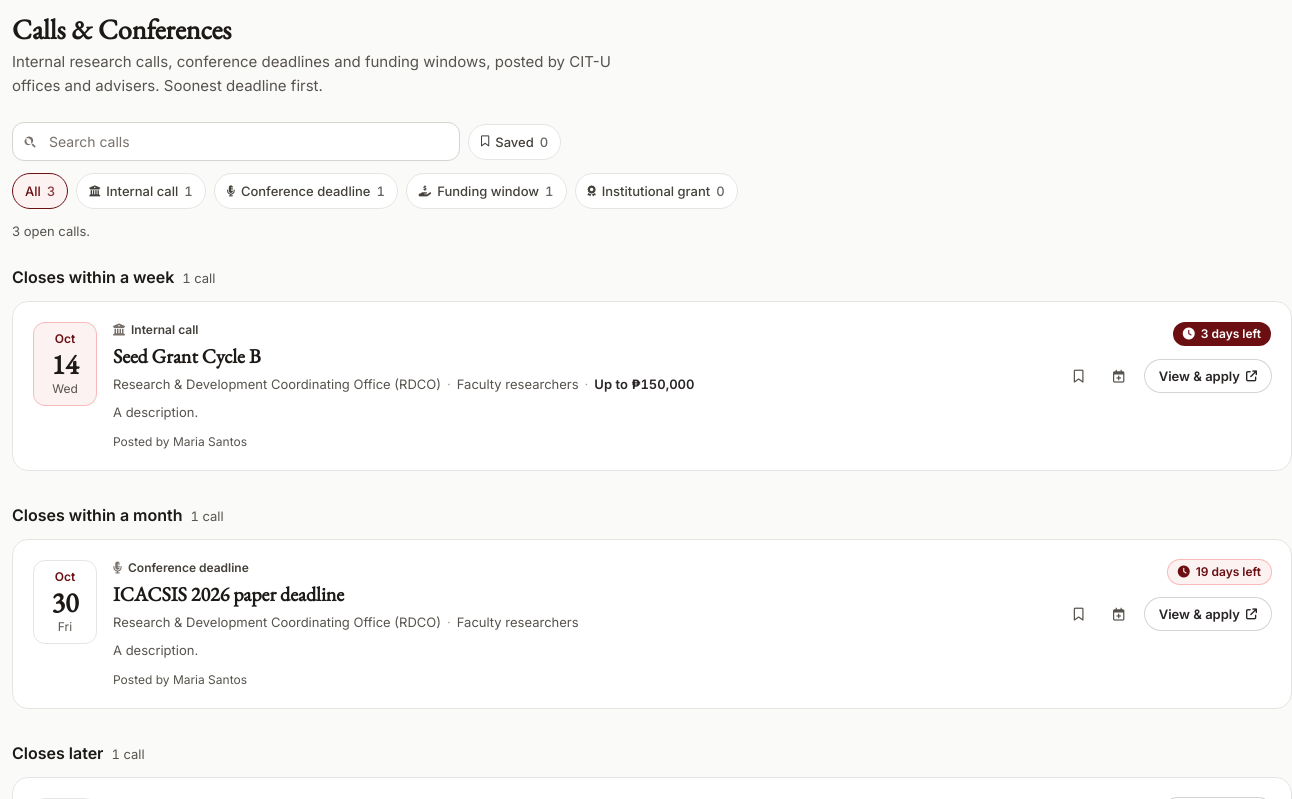
filters › counts each type and narrows the board to it
The image size is (1292, 799).
expect the heading "Calls & Conferences" is shown: met, box [12, 11, 231, 47]
Click the button "Conference deadline 1" at x=306, y=191, box [214, 173, 398, 209]
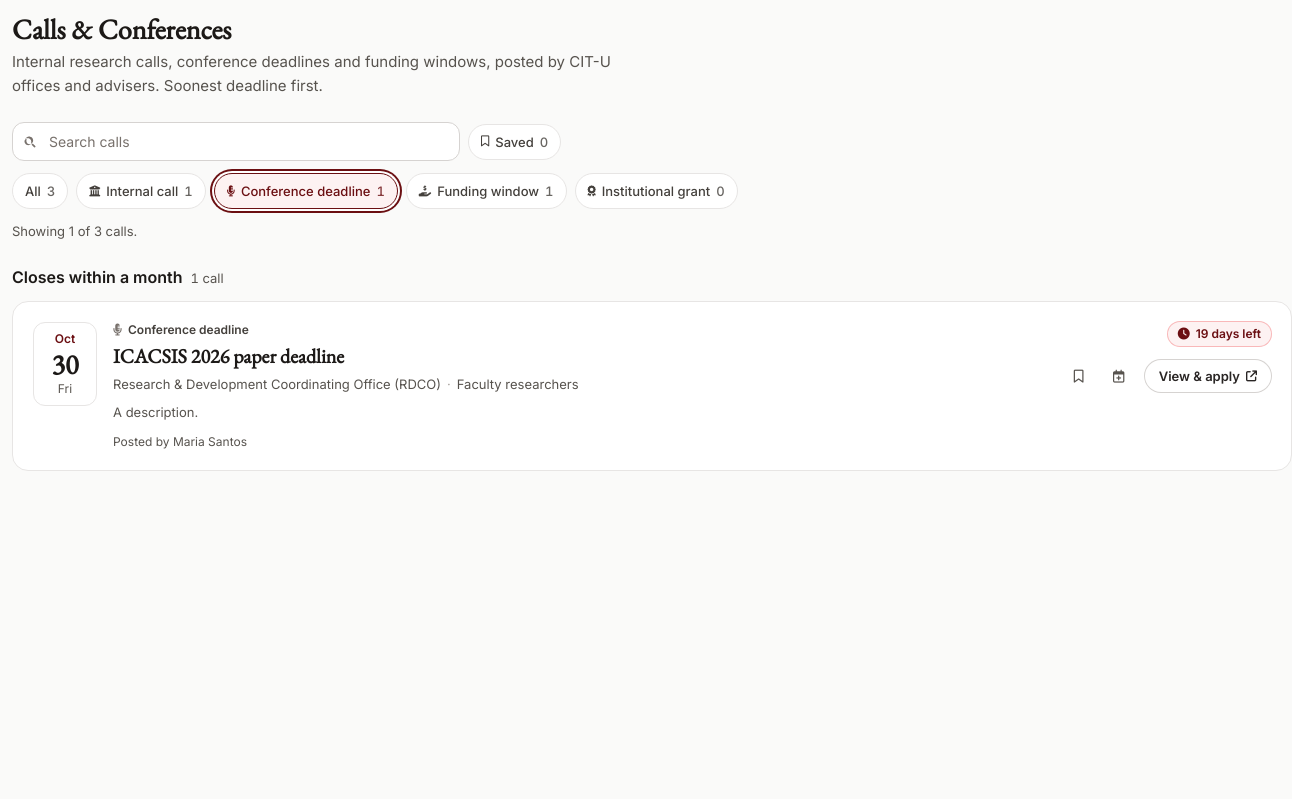
expect the element "ICACSIS 2026 paper deadline" is shown: met, box [13, 302, 1291, 470]
expect the text "Showing 1 of 3 calls." is shown: met, box [12, 223, 137, 239]
